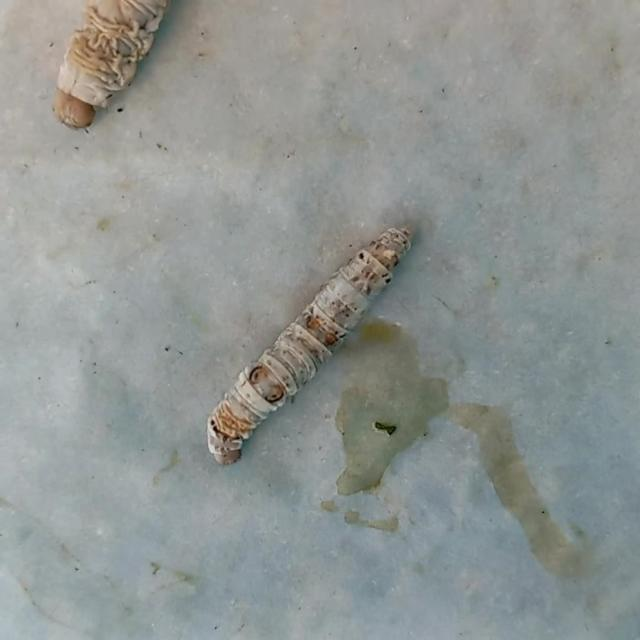Grasserie: (181, 183, 432, 495)
